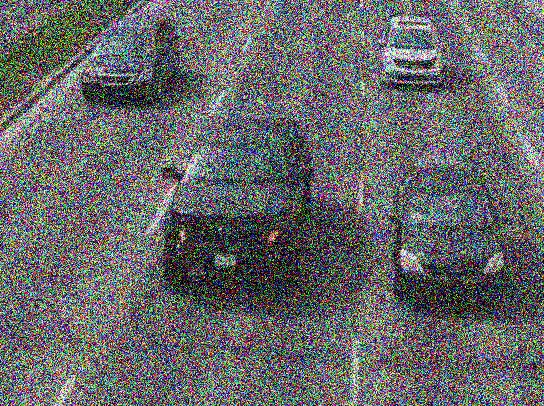car: (156, 110, 319, 293), (386, 135, 514, 308), (77, 8, 182, 104), (375, 15, 446, 92)
